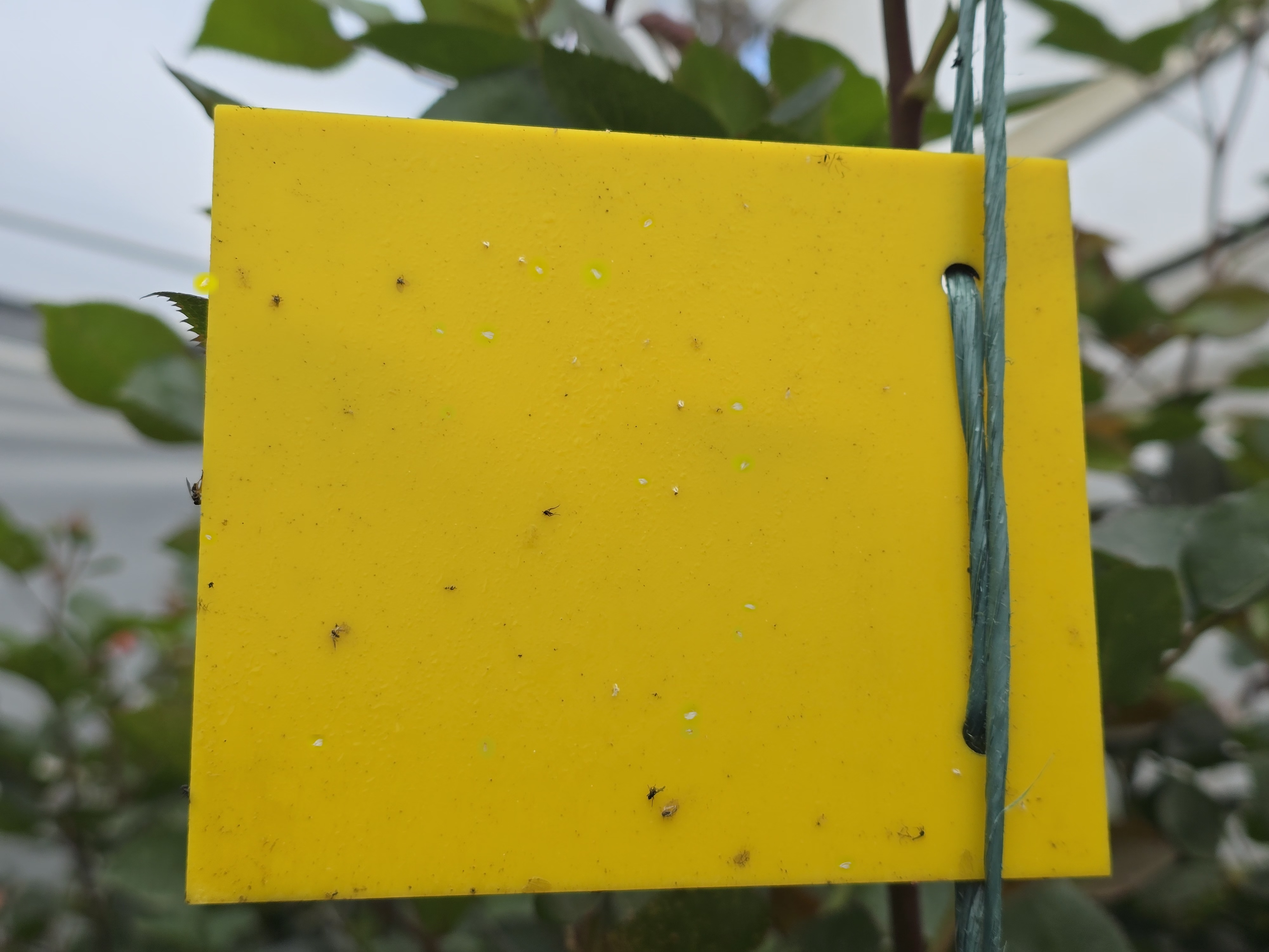WF: (584, 263, 607, 285), (681, 704, 699, 726), (476, 326, 496, 344), (196, 275, 215, 291), (530, 259, 546, 278), (734, 456, 752, 470), (479, 739, 493, 756), (730, 399, 745, 412), (838, 857, 853, 870), (310, 737, 325, 748), (682, 727, 697, 737), (441, 407, 454, 418), (202, 532, 215, 543), (612, 683, 621, 698), (951, 766, 963, 777), (641, 217, 653, 228), (635, 477, 649, 486), (434, 323, 444, 335), (733, 627, 742, 640), (743, 602, 756, 611), (482, 239, 492, 250), (518, 256, 528, 266), (672, 487, 680, 497), (678, 400, 685, 409)
